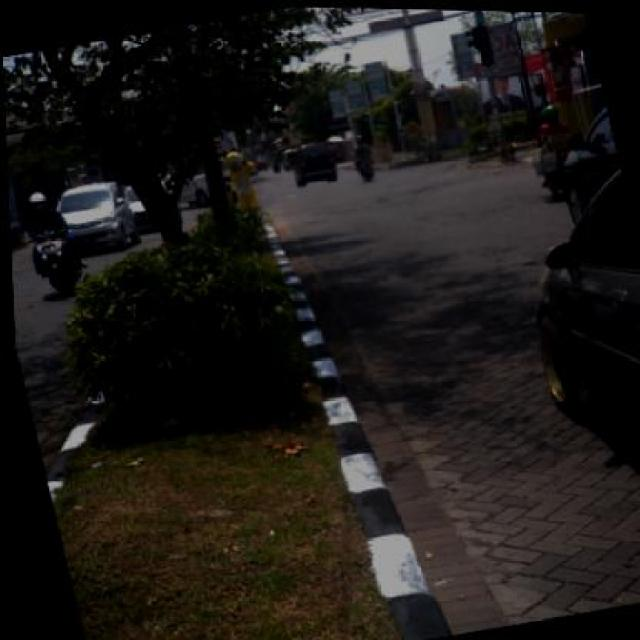yellow_light: (471, 22, 495, 67)
